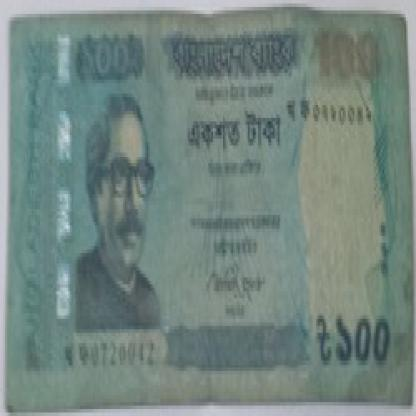one hundred taka: (312, 20, 394, 86), (331, 305, 396, 371), (76, 24, 140, 80)
